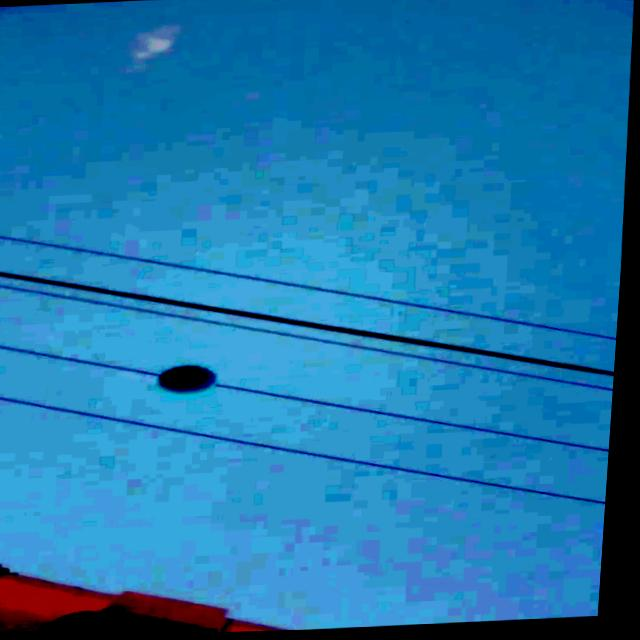obstruction: (164, 365, 220, 395)
wires: (0, 282, 619, 394), (0, 394, 613, 507), (0, 232, 621, 343), (0, 270, 620, 378), (221, 384, 616, 454), (0, 342, 164, 377)
